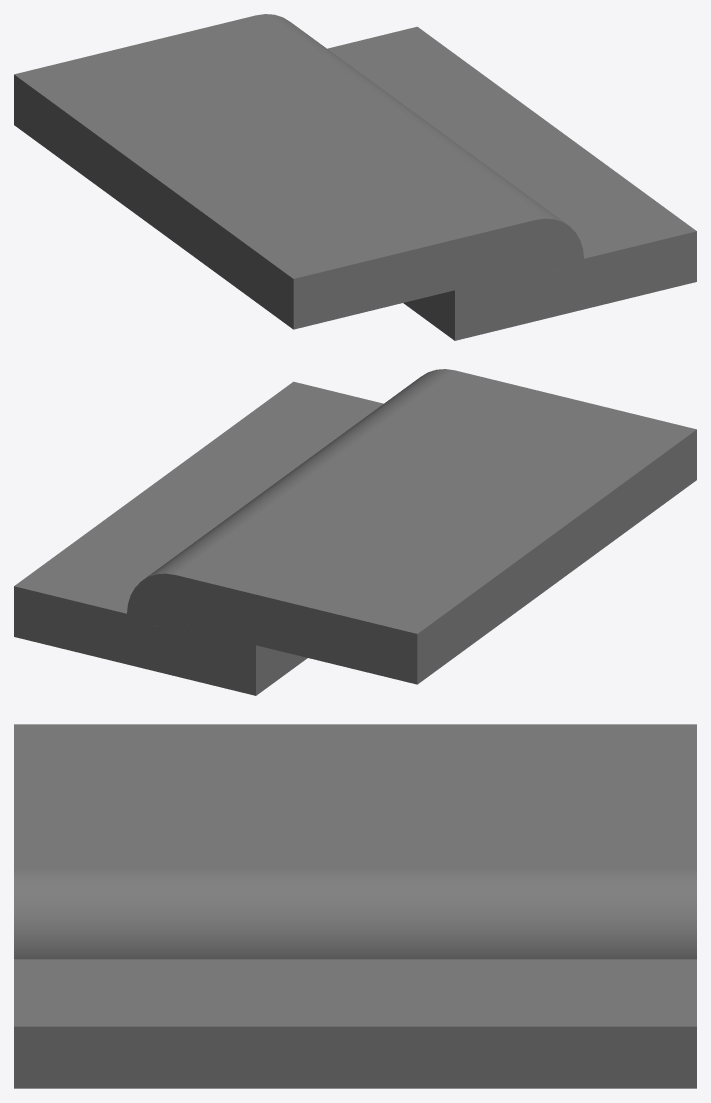
3 renders of one model, top to bottom at view 1: azimuth 30°, elevation 25°; view 2: azimuth 150°, elevation 25°; view 3: azimuth 270°, elevation 25°, orthographic. The views are drawn at different scales.
Parts seen in each view (by area): view 1: mesh_id4, mesh_id5; view 2: mesh_id4, mesh_id5; view 3: mesh_id4, mesh_id5.
Part boxes in pixels (left/top/right/bottom): mesh_id4: left=14, top=15, right=696, bottom=340; mesh_id5: left=256, top=14, right=583, bottom=275; mesh_id4: left=14, top=370, right=696, bottom=695; mesh_id5: left=127, top=369, right=454, bottom=630; mesh_id4: left=14, top=724, right=696, bottom=1088; mesh_id5: left=14, top=868, right=696, bottom=959.
Size of the model in its own units: 0.512 by 0.1229 by 0.6144.
Materials: 2 (2 with a texture image).
